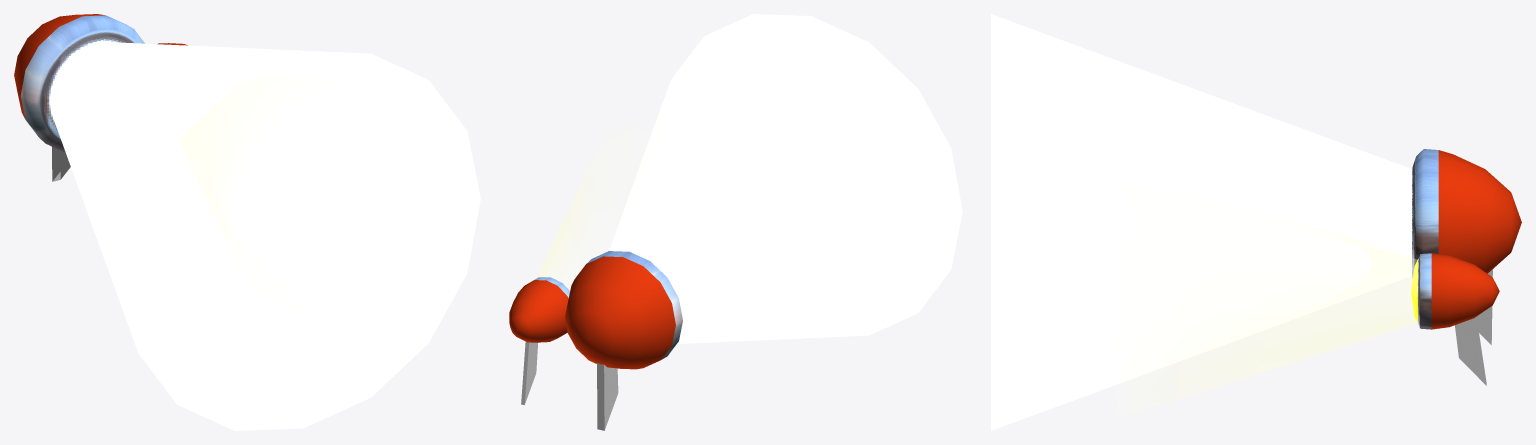
The model's file is motorbike_headlight_ON.gltf.
3 views of the same model, side by side, from view 1: azimuth 30°, elevation 25°; view 2: azimuth 150°, elevation 25°; view 3: azimuth 270°, elevation 25° (orthographic). The views are drawn at different scales.
Visible parts, largest first — view 1: headlight2.big.Light, headlight2.big.ON, headlight2.small.ON.001, headlight2.big.support.ON; view 2: headlight2.big.Light, headlight2.big.ON, headlight2.small.ON.001, headlight2.small.ON, headlight2.big.support.ON, headlight2.small.support.ON; view 3: headlight2.big.Light, headlight2.small.ON.001, headlight2.big.ON, headlight2.small.ON, headlight2.small.support.ON.
Part boxes in pixels (left/top/right/bottom): headlight2.big.Light: left=50, top=42, right=480, bottom=430; headlight2.big.ON: left=14, top=14, right=144, bottom=152; headlight2.small.ON.001: left=179, top=122, right=227, bottom=230; headlight2.big.support.ON: left=52, top=146, right=70, bottom=181; headlight2.big.Light: left=609, top=14, right=962, bottom=343; headlight2.big.ON: left=565, top=251, right=682, bottom=369; headlight2.small.ON.001: left=537, top=184, right=619, bottom=290; headlight2.small.ON: left=509, top=277, right=569, bottom=342; headlight2.big.support.ON: left=597, top=363, right=618, bottom=430; headlight2.small.support.ON: left=521, top=342, right=537, bottom=405; headlight2.big.Light: left=991, top=14, right=1411, bottom=430; headlight2.small.ON.001: left=1176, top=219, right=1416, bottom=398; headlight2.big.ON: left=1412, top=149, right=1521, bottom=278; headlight2.small.ON: left=1411, top=253, right=1499, bottom=329; headlight2.small.support.ON: left=1455, top=317, right=1486, bottom=385.
Size of the model in its own units: 0.5406 by 0.4959 by 0.6308.
6 materials, 5 textured.
